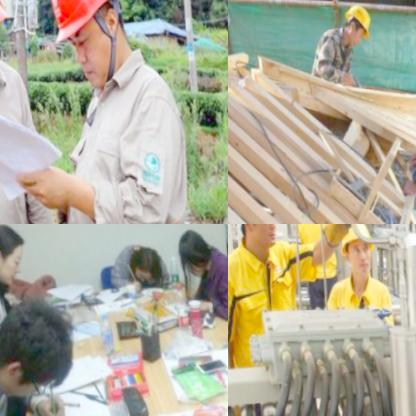head: (169, 227, 209, 280), (121, 242, 157, 288), (0, 224, 23, 289)
helmet: (27, 0, 142, 95), (335, 224, 376, 284), (334, 3, 376, 51), (228, 224, 281, 256)
